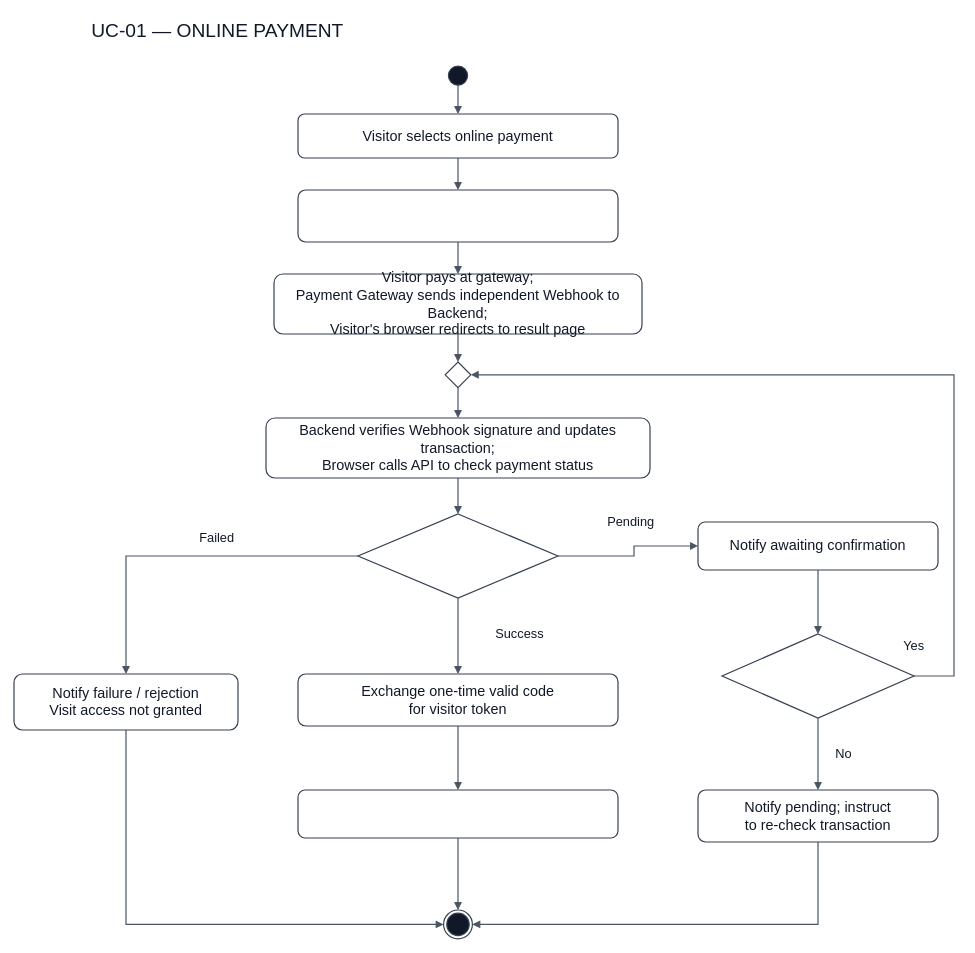
Image size: 975x953. Some labels were removed from this diagram. Each missing label, with the centre of its shape:
"Payment status?" goes at pixel 457 555.
"Retries left and visitor continues waiting?" goes at pixel 817 675.
"Save token; open tour interface" goes at pixel 457 813.
"System creates pending session and payment request" goes at pixel 457 215.
